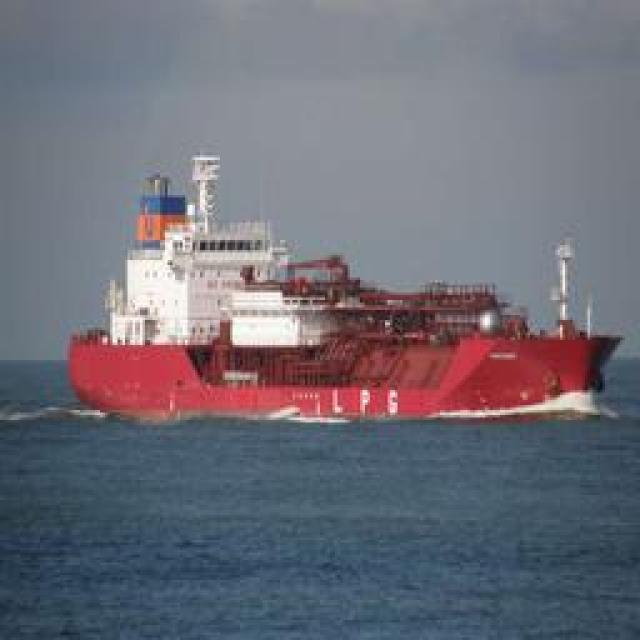ship2: (67, 157, 626, 426)
